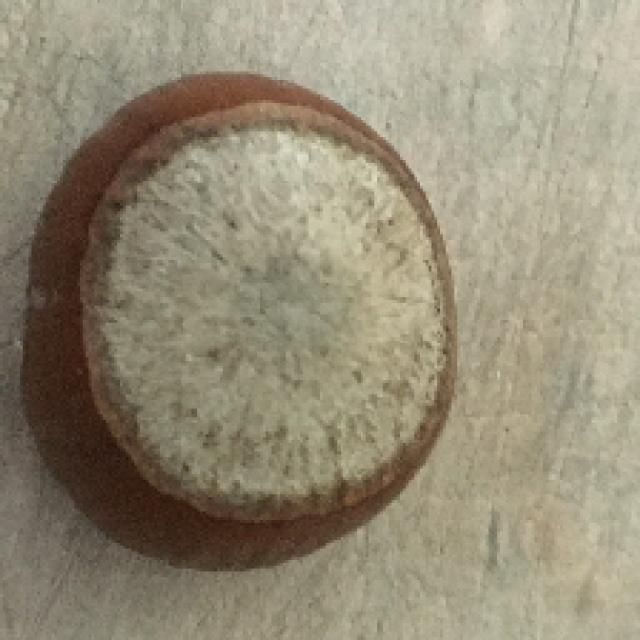QualityHazelnut: (20, 71, 464, 578)
